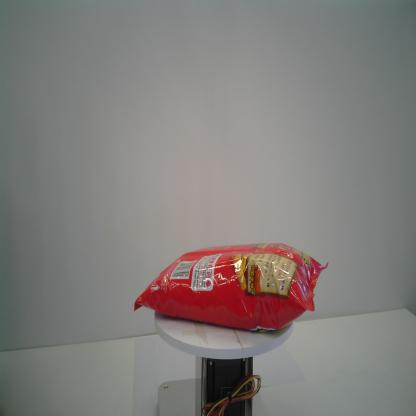Puffed Food: (132, 240, 332, 336)
